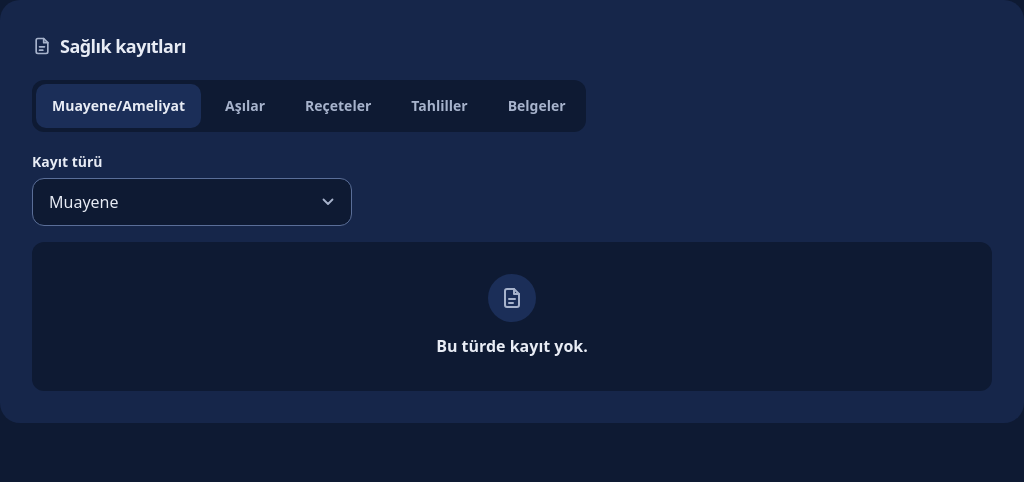
Test: Tahlil açıklaması › klinik görünümünde açıklama isteği hiç atılmaz
This screenshot has width=1024, height=482.
Click the tab "Tahliller".
click(440, 106)  # box [395,84,484,128]
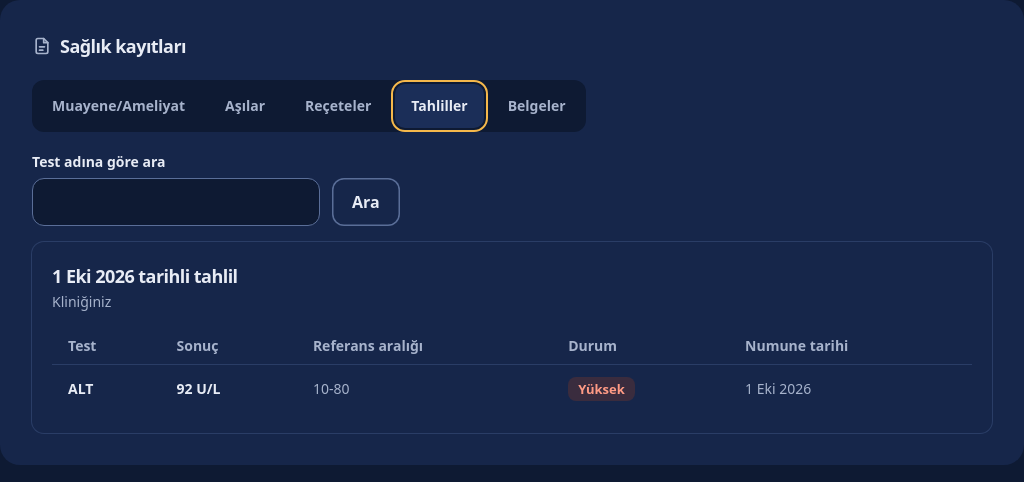
expect the text "Kliniğiniz" is shown: met, box [52,292,111,311]
